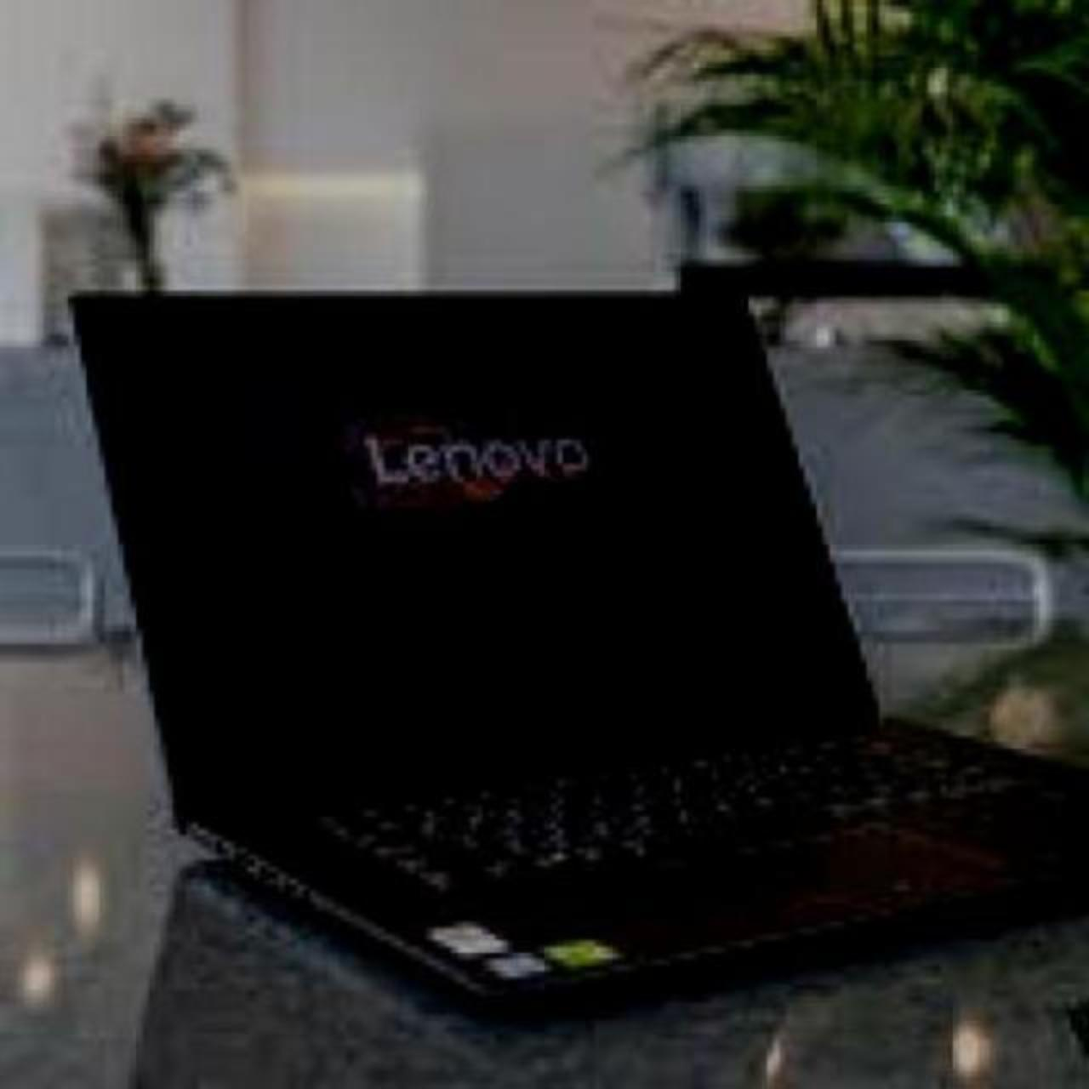laptop: (11, 227, 1088, 981)
